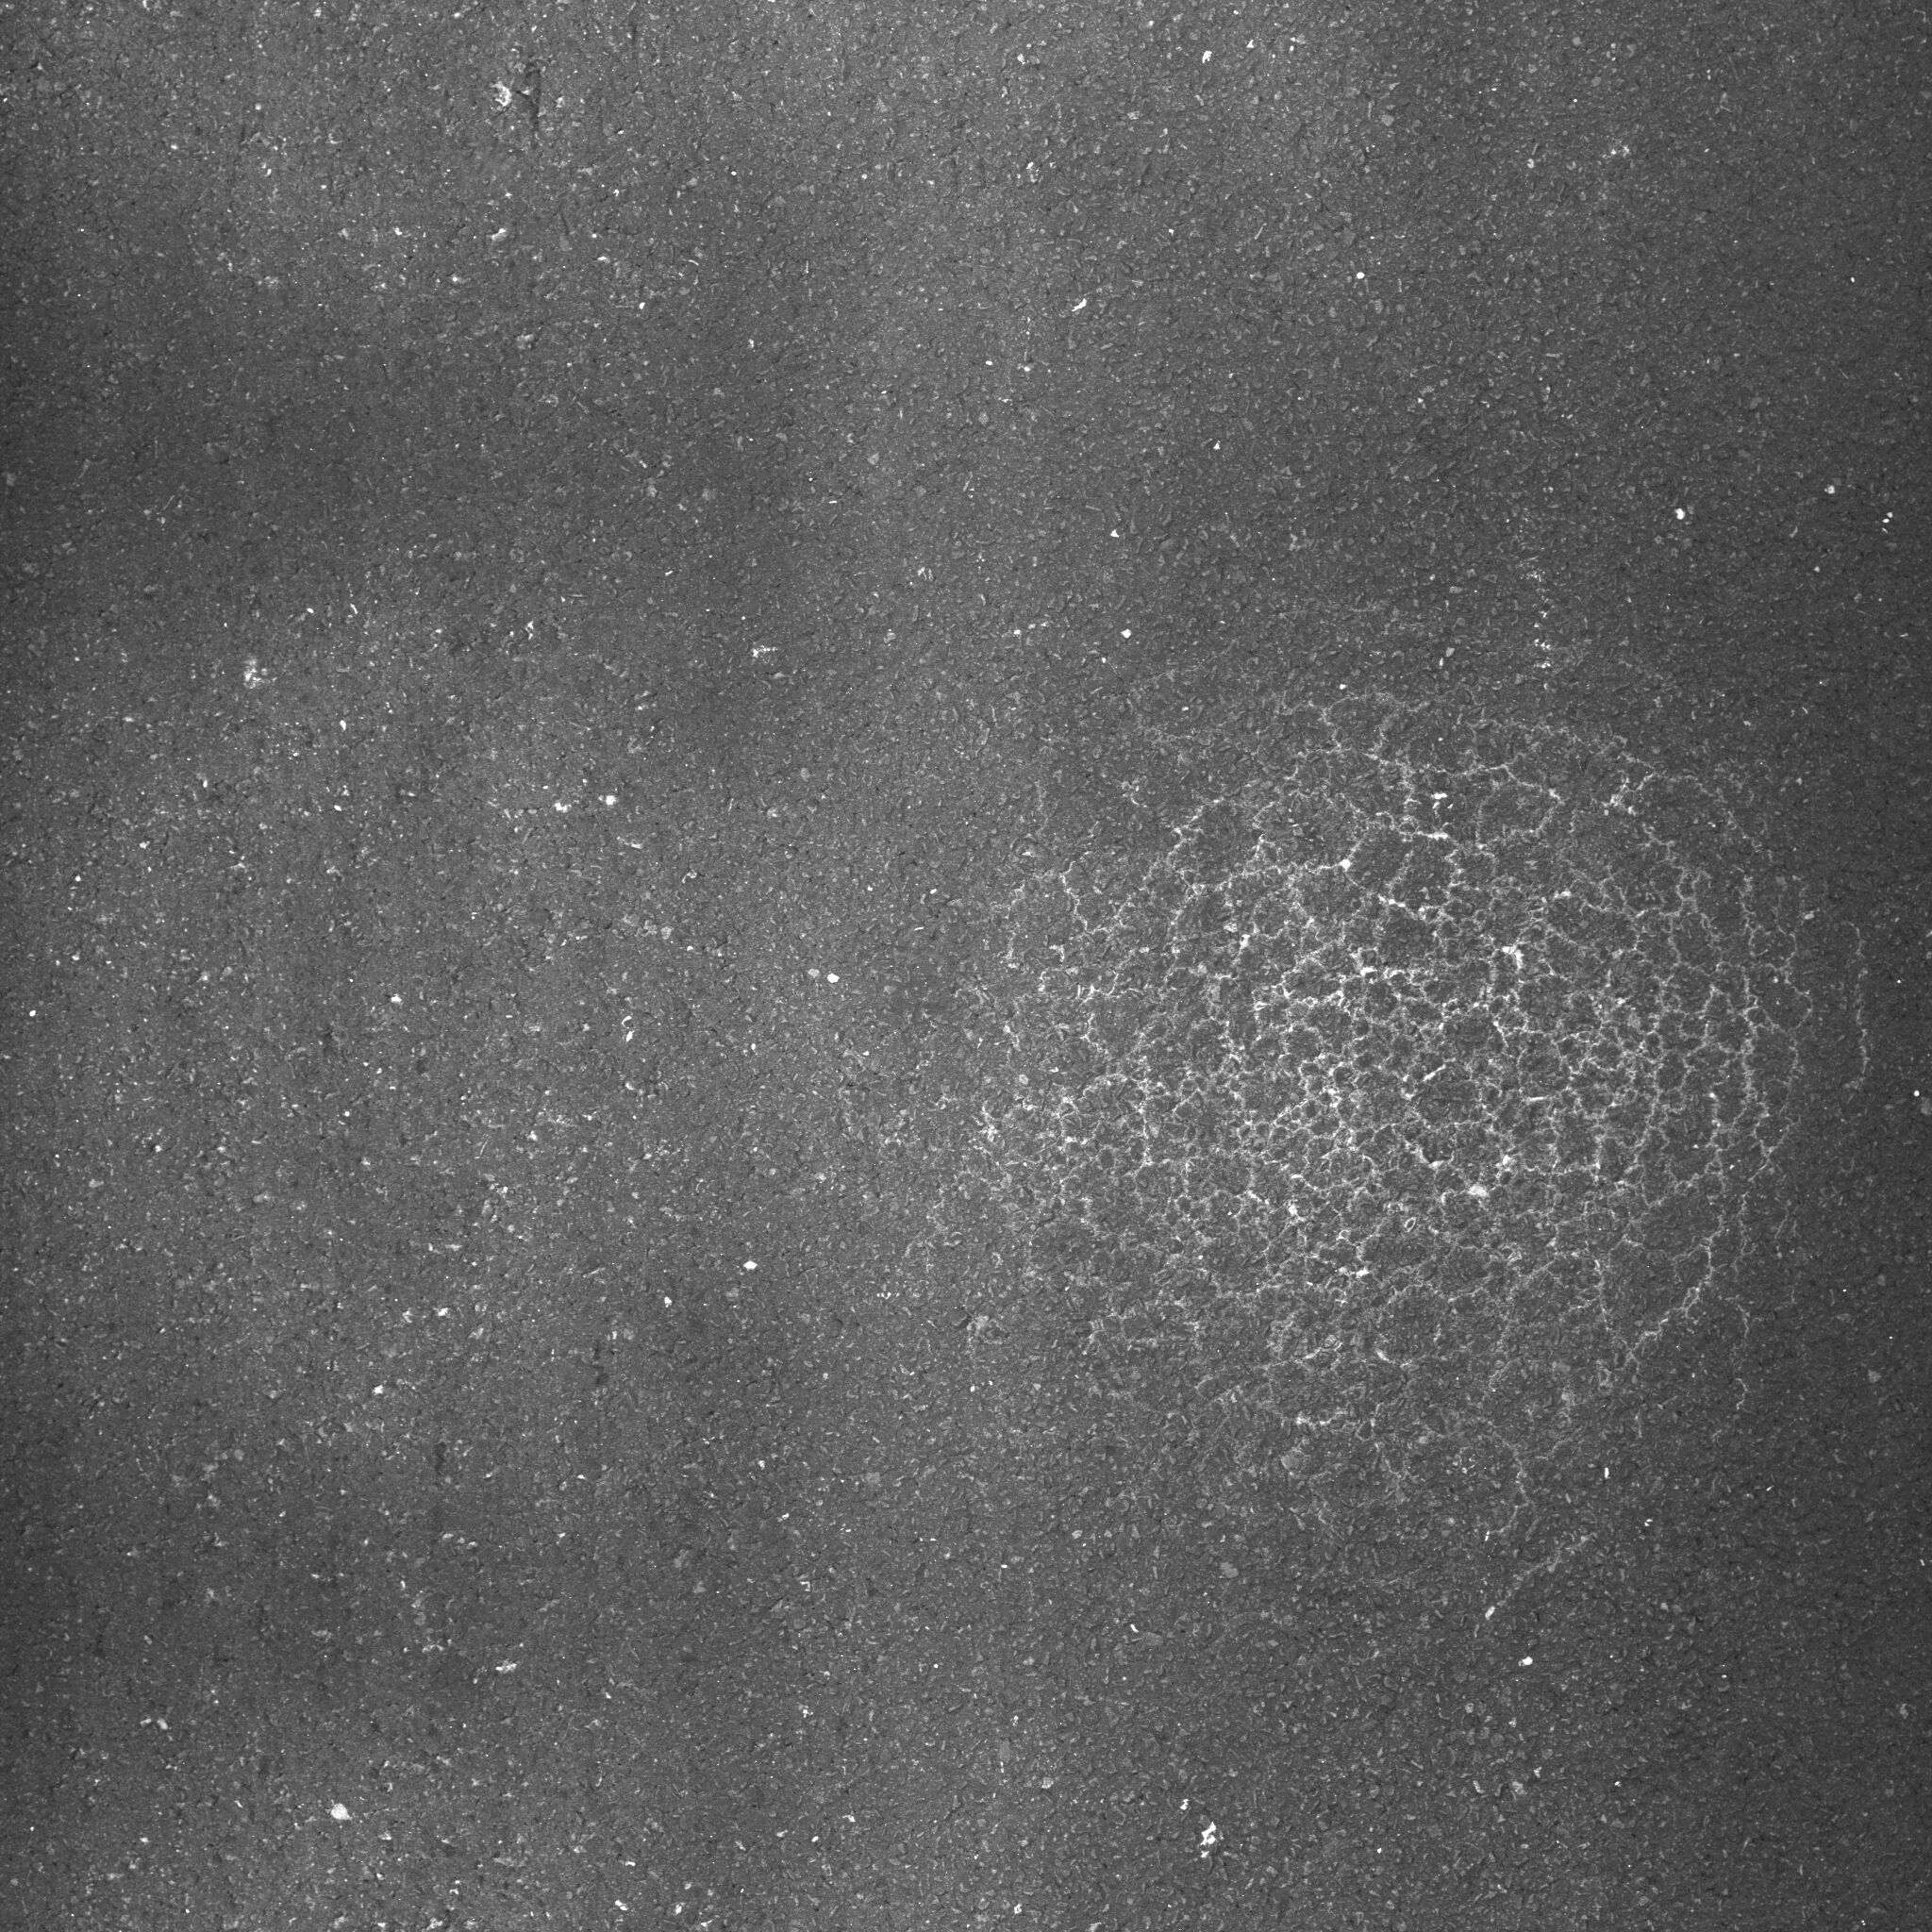alligator: (830, 502, 1927, 1759)
